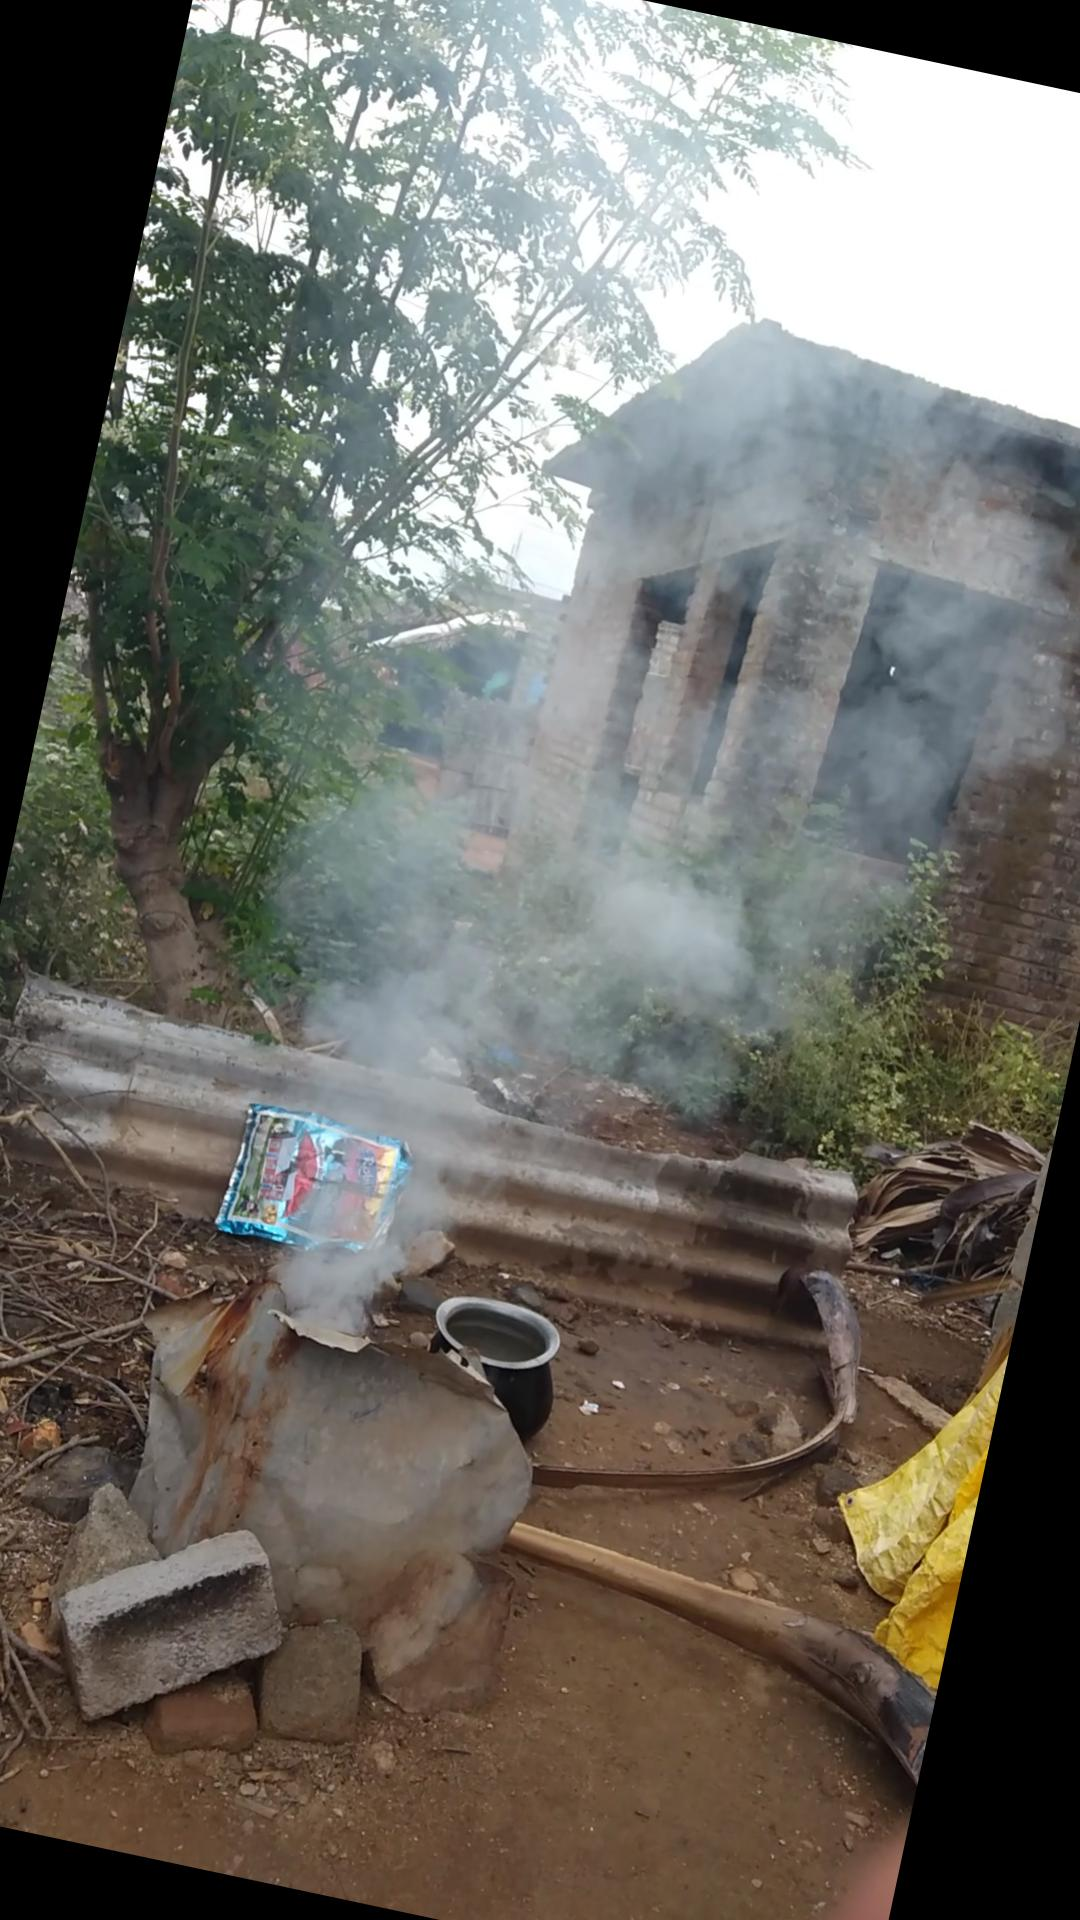Smoke: (175, 241, 1080, 1470)
